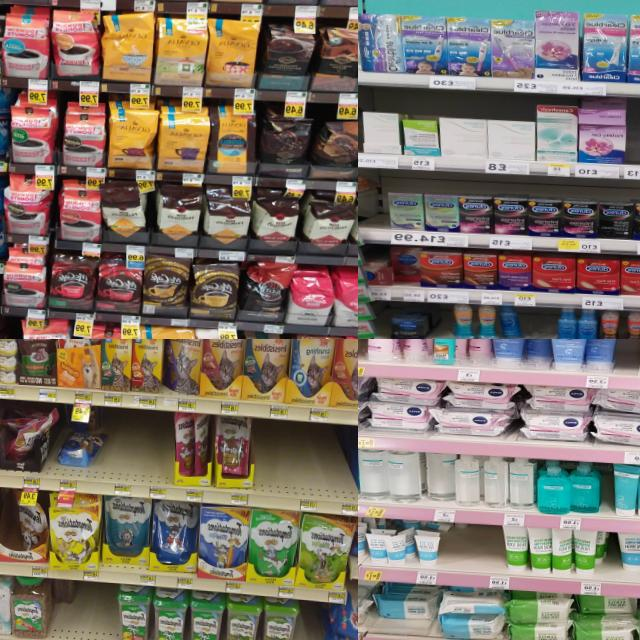100% O.O.S: (252, 422, 338, 512), (132, 412, 174, 499), (106, 410, 136, 496), (87, 585, 116, 640), (363, 186, 388, 240), (521, 307, 557, 339), (72, 581, 90, 640), (296, 603, 318, 640), (439, 303, 453, 339), (380, 302, 391, 339)
100- O.O.S: (457, 525, 501, 588), (616, 339, 637, 389)
